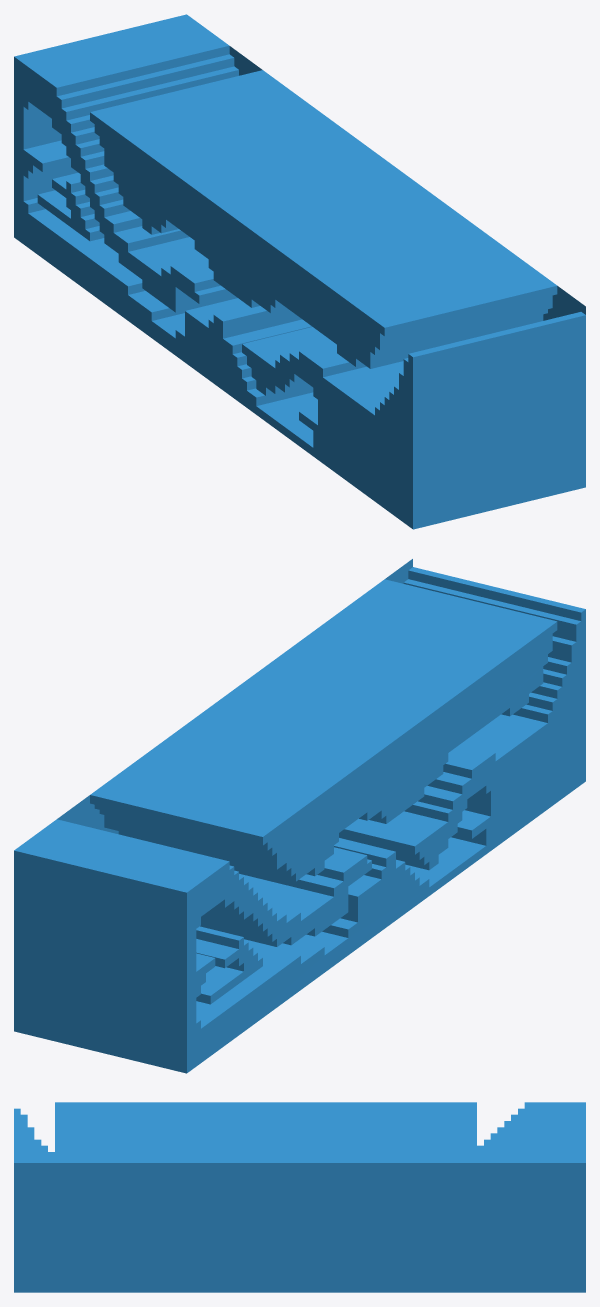
Rendered from SC_Level.fbx.
3 renders of one model, top to bottom at view 1: azimuth 30°, elevation 25°; view 2: azimuth 150°, elevation 25°; view 3: azimuth 270°, elevation 25°, orthographic. The views are drawn at different scales.
Visible parts, largest first — view 1: SC_Level, SC_Background; view 2: SC_Level, SC_Background; view 3: SC_Level, SC_Background.
Boxes of the visible parts, x1=… form: SC_Level: x1=14, y1=14, x2=585, y2=529; SC_Background: x1=229, y1=46, x2=585, y2=320; SC_Level: x1=14, y1=567, x2=585, y2=1073; SC_Background: x1=57, y1=559, x2=412, y2=834; SC_Level: x1=14, y1=1102, x2=585, y2=1292; SC_Background: x1=14, y1=1163, x2=585, y2=1292.
Size of the model in its own units: 30 by 30 by 120.
